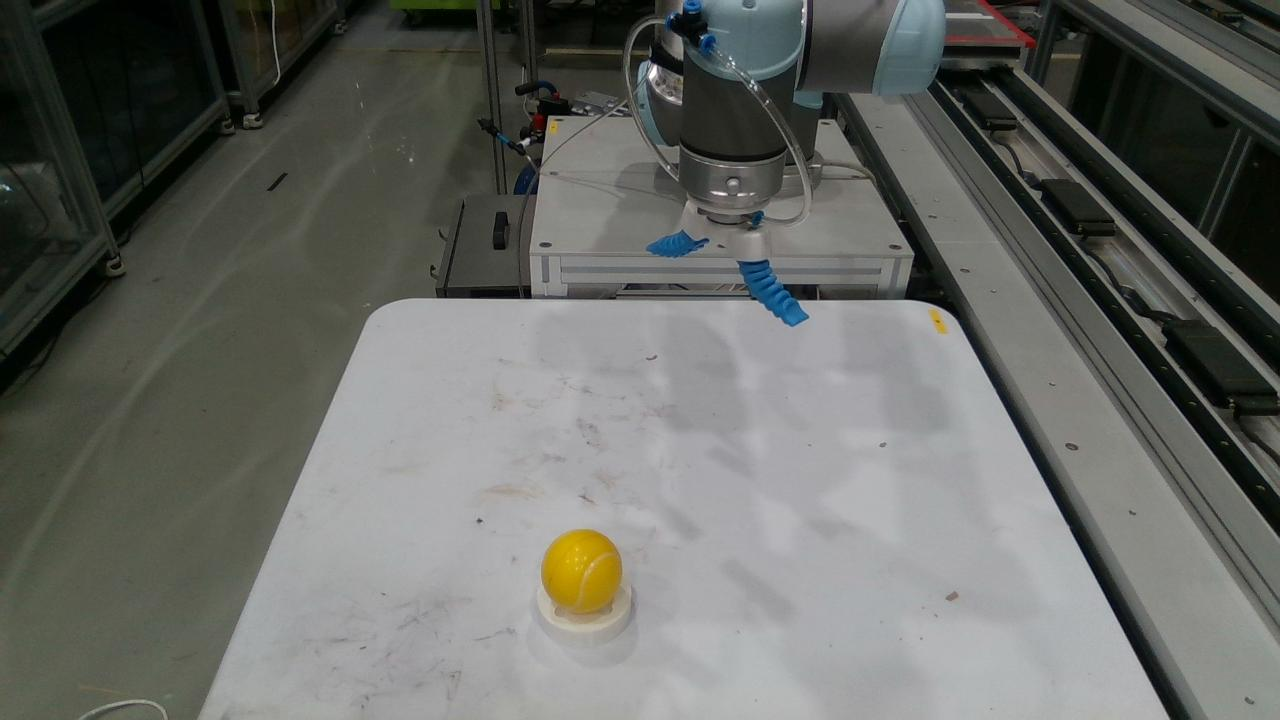UR5: (636, 0, 948, 262)
gripper_left: (647, 230, 708, 258)
gripper_right: (738, 259, 807, 326)
target: (540, 529, 623, 615), (535, 581, 633, 650)
